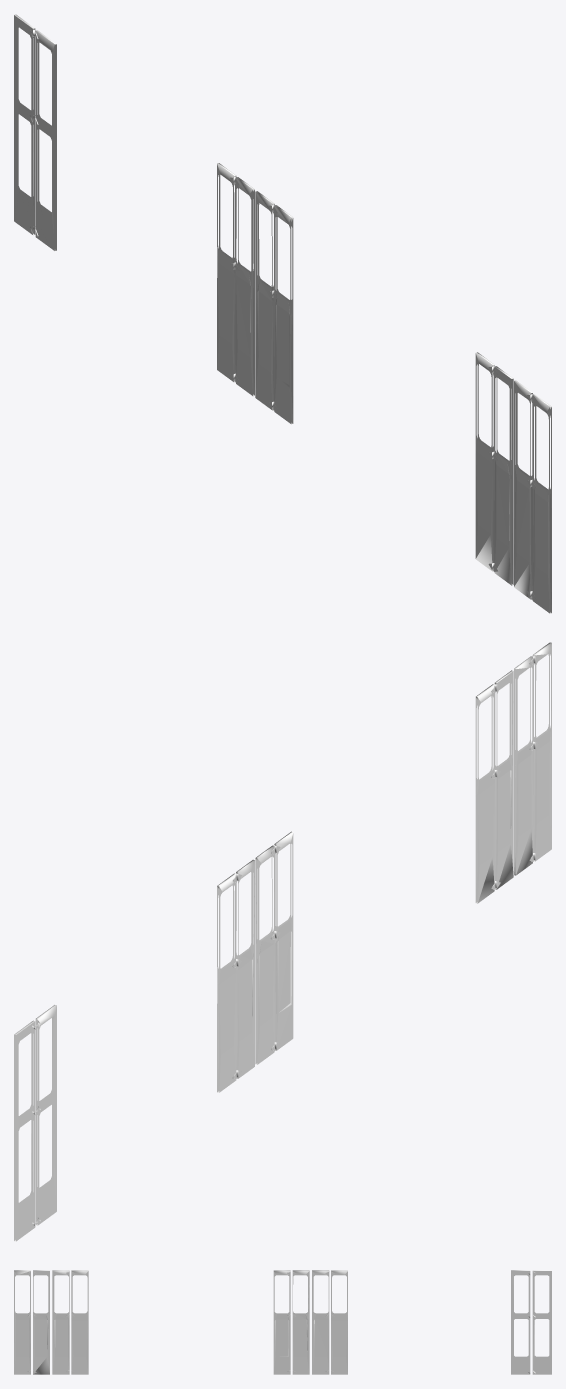
3 renders of one model, top to bottom at view 1: azimuth 30°, elevation 25°; view 2: azimuth 150°, elevation 25°; view 3: azimuth 270°, elevation 25°, orthographic. The views are drawn at different scales.
Bounding box in the file's own units: 0.0326 × 2.04 × 9.61.
1 material, 1 textured.
